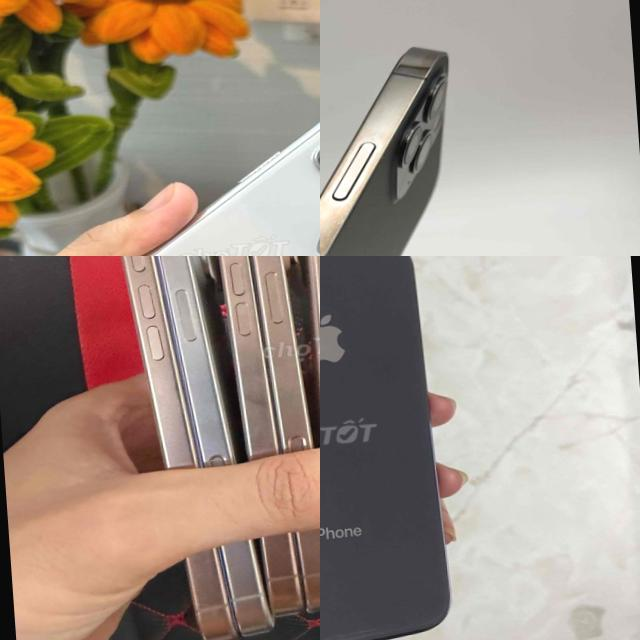gen_12_13: (320, 37, 502, 256)
gen_x_xs: (320, 256, 471, 640), (0, 89, 320, 256)
